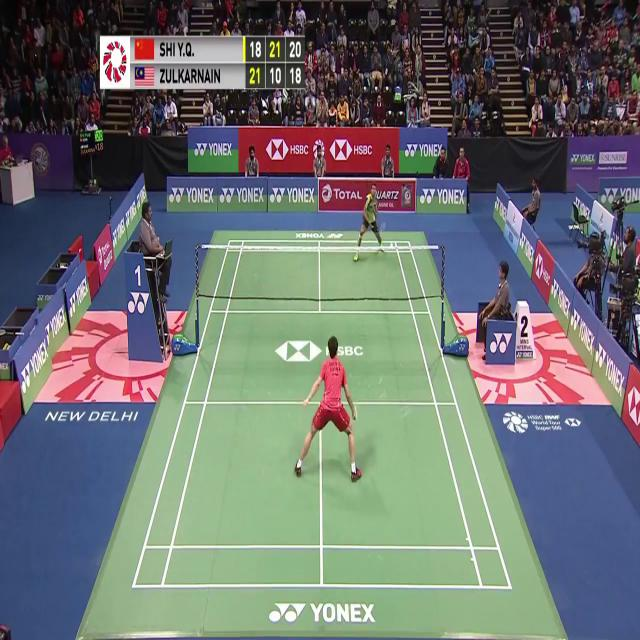Shuttlecock: (388, 240, 395, 252)
